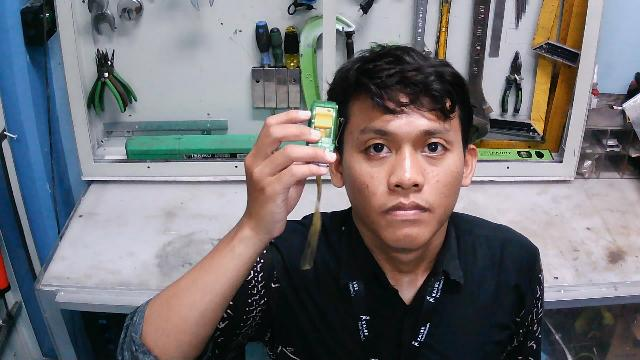meteran: (301, 99, 343, 275)
